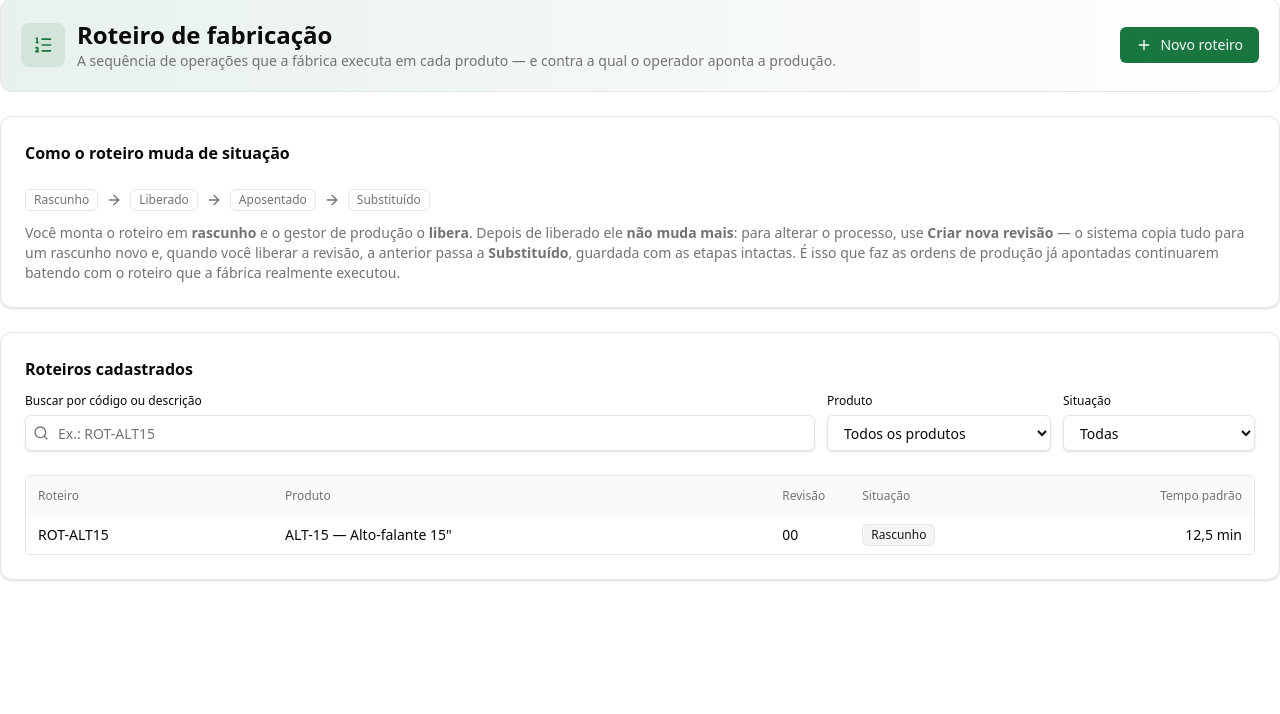
Test case: ProductionRoutesPage — tradução de erro de regra › explica a recusa por centro de trabalho desativado sem mostrar o código G5
The width and height of the screenshot is (1280, 714).
Click the text "ROT-ALT15": (73, 534) [26,516,273,554]
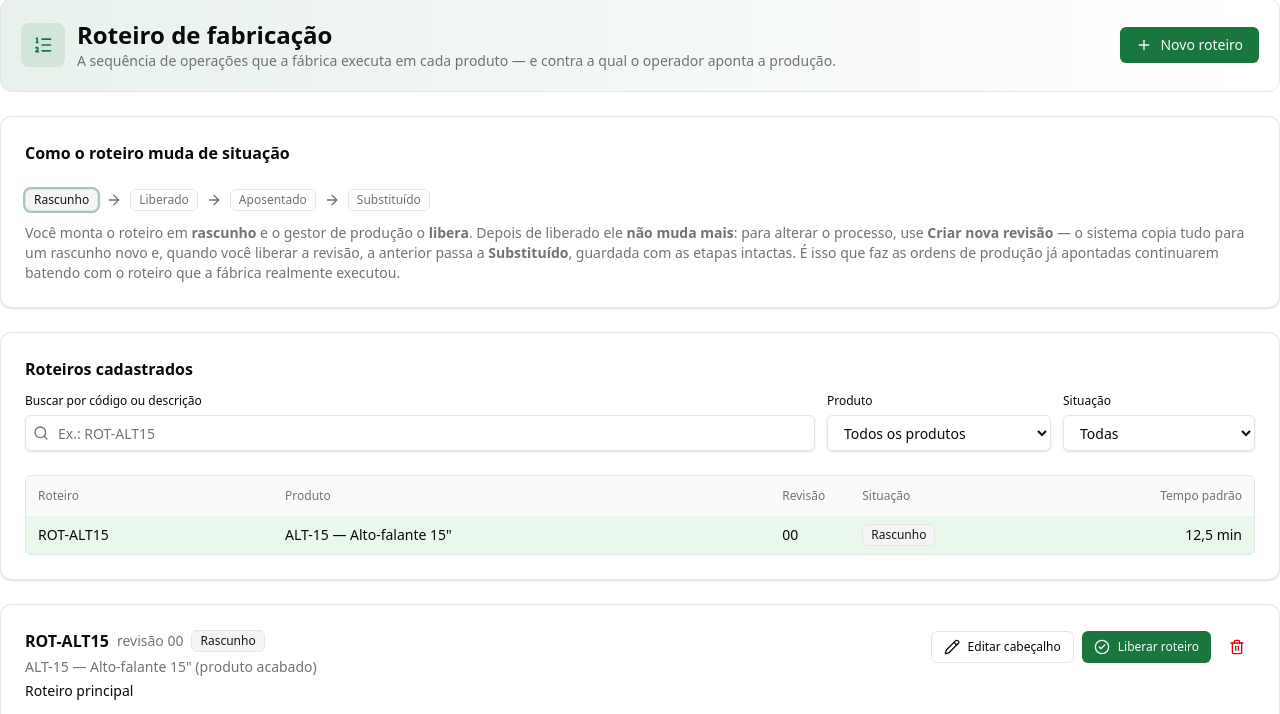
Click the button "Liberar roteiro": (1146, 647) [1082,631,1211,663]
(page scrolled)
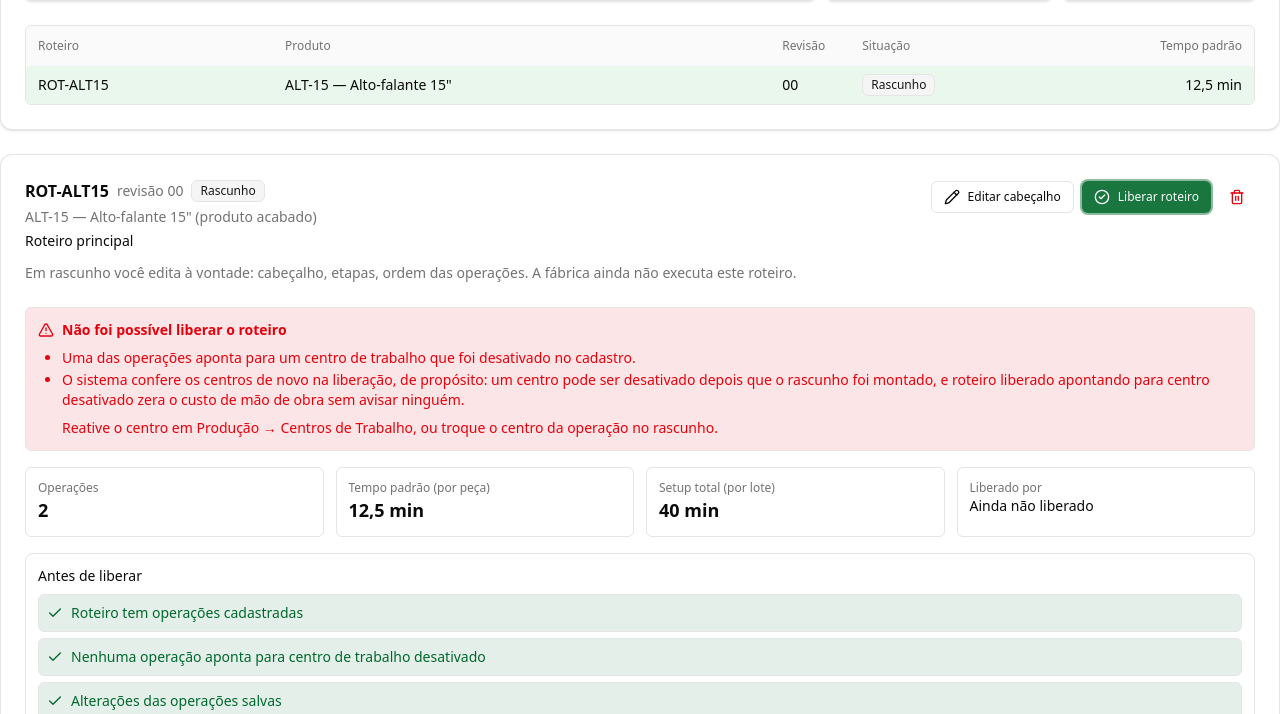
Expected: the text "Não foi possível liberar o roteiro" is shown, [62,320,287,340]
Expected: the list item "centro de trabalho que foi desativado" is shown, [62,348,636,367]
